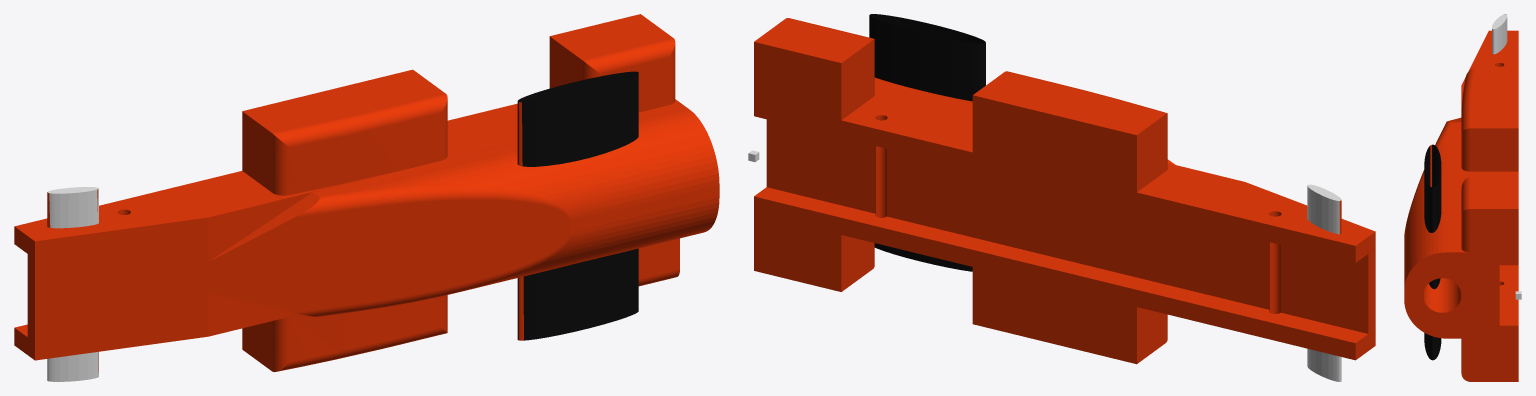
The model's file is auto.dae.
3 views of the same model, side by side, from view 1: azimuth 30°, elevation 25°; view 2: azimuth 150°, elevation 25°; view 3: azimuth 270°, elevation 25° (orthographic). The views are drawn at different scales.
Parts seen in each view (by area): view 1: autó; view 2: autó; view 3: autó.
Part boxes in pixels (bbox=[...]): autó: bbox=[14, 14, 719, 381]; autó: bbox=[754, 14, 1375, 381]; autó: bbox=[1404, 14, 1518, 381].
Bounding box in the file's own units: 173 × 38.5 × 62.5.
